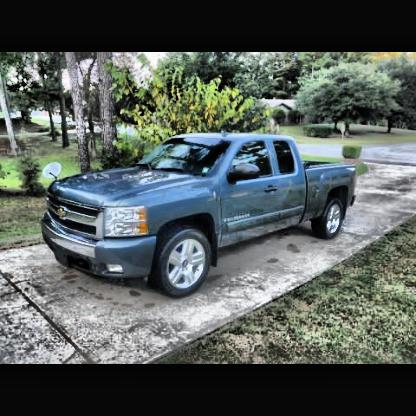Chevrolet Silverado 1500 Extended Cab 2012: (40, 132, 358, 300)
